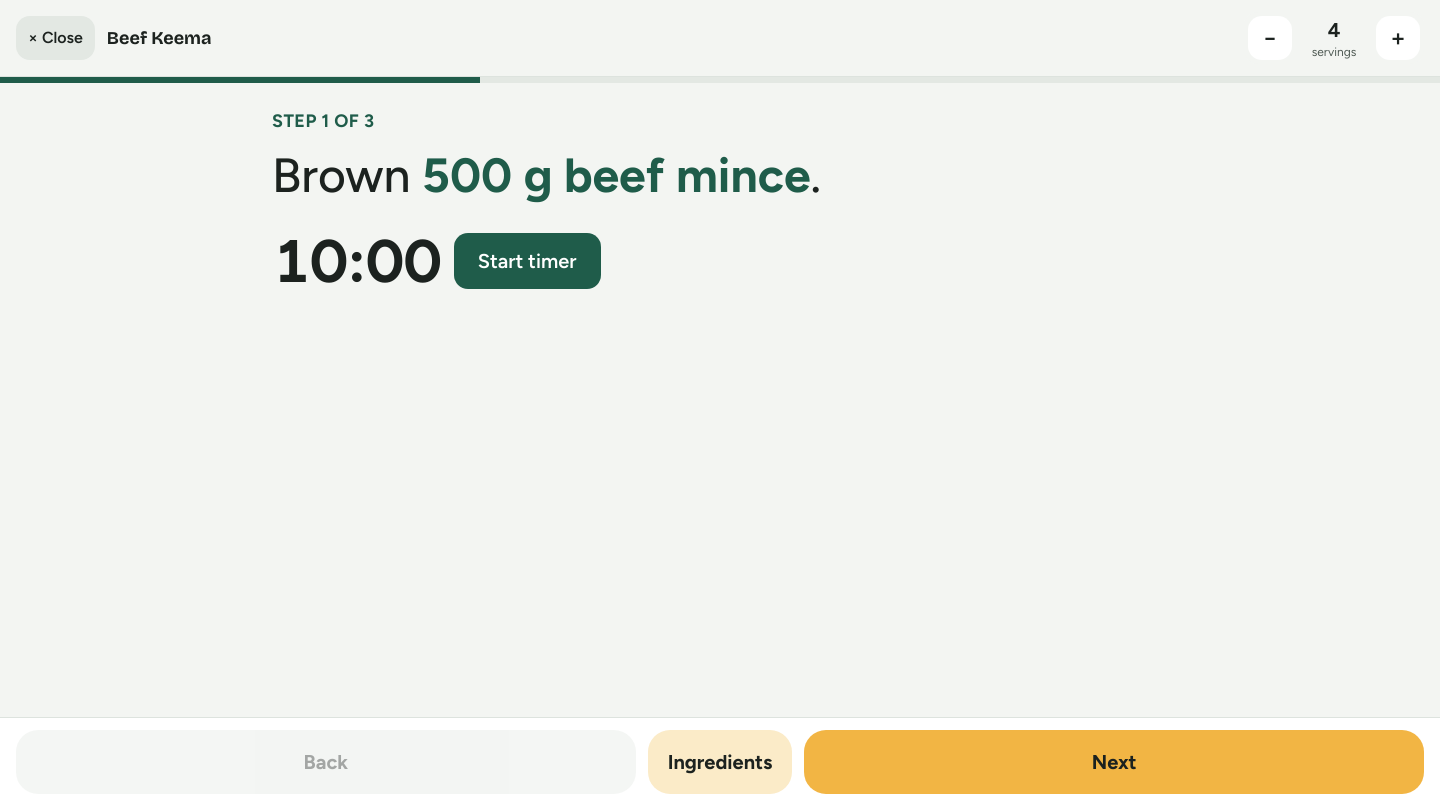
Test: CookScreen › should open the ingredients sheet with scaled amounts
The width and height of the screenshot is (1440, 810).
Step 1. Click the button named "More servings" → [1398, 38], box [1376,16,1420,60]
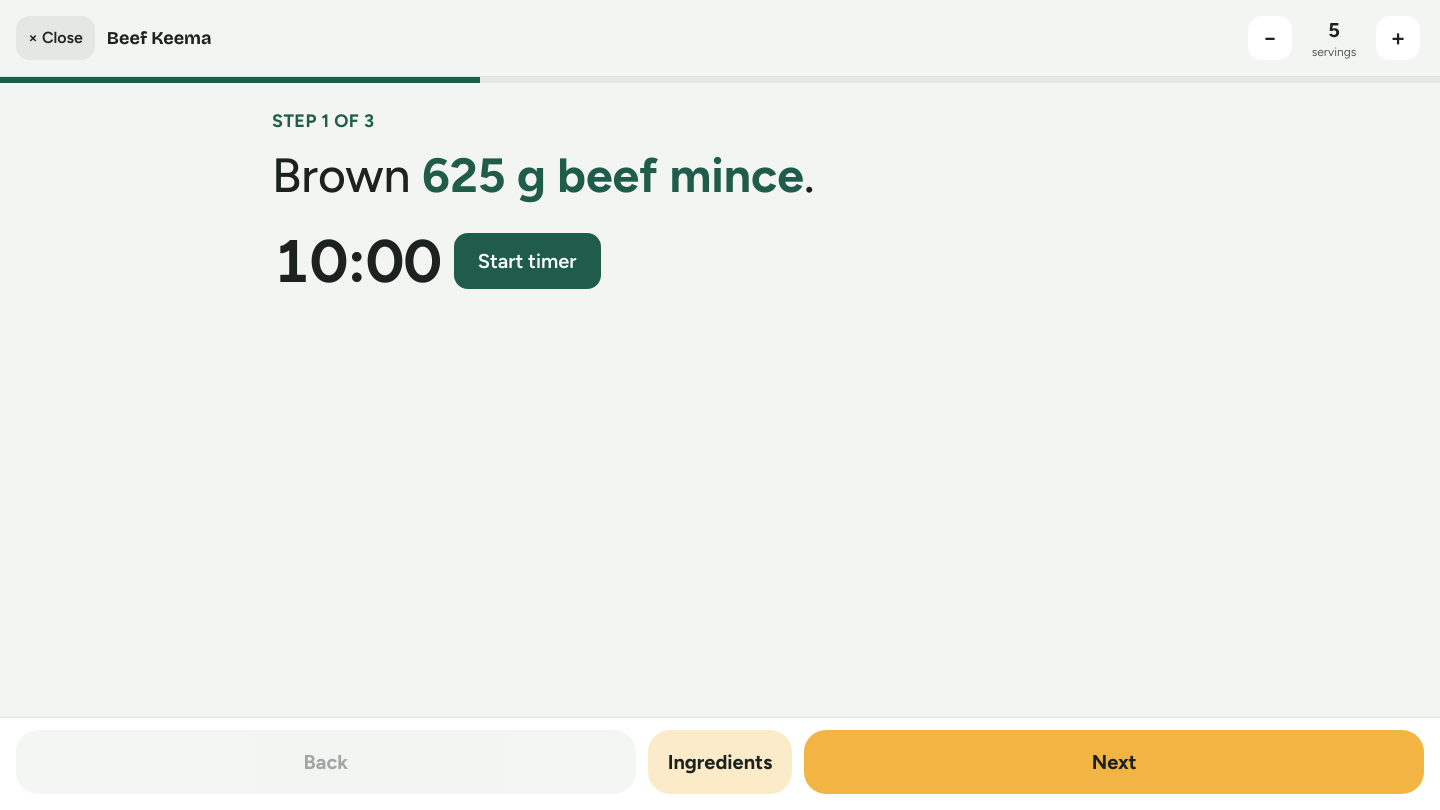
Step 2. Click the button "Ingredients" → [720, 762], box [648,730,792,794]
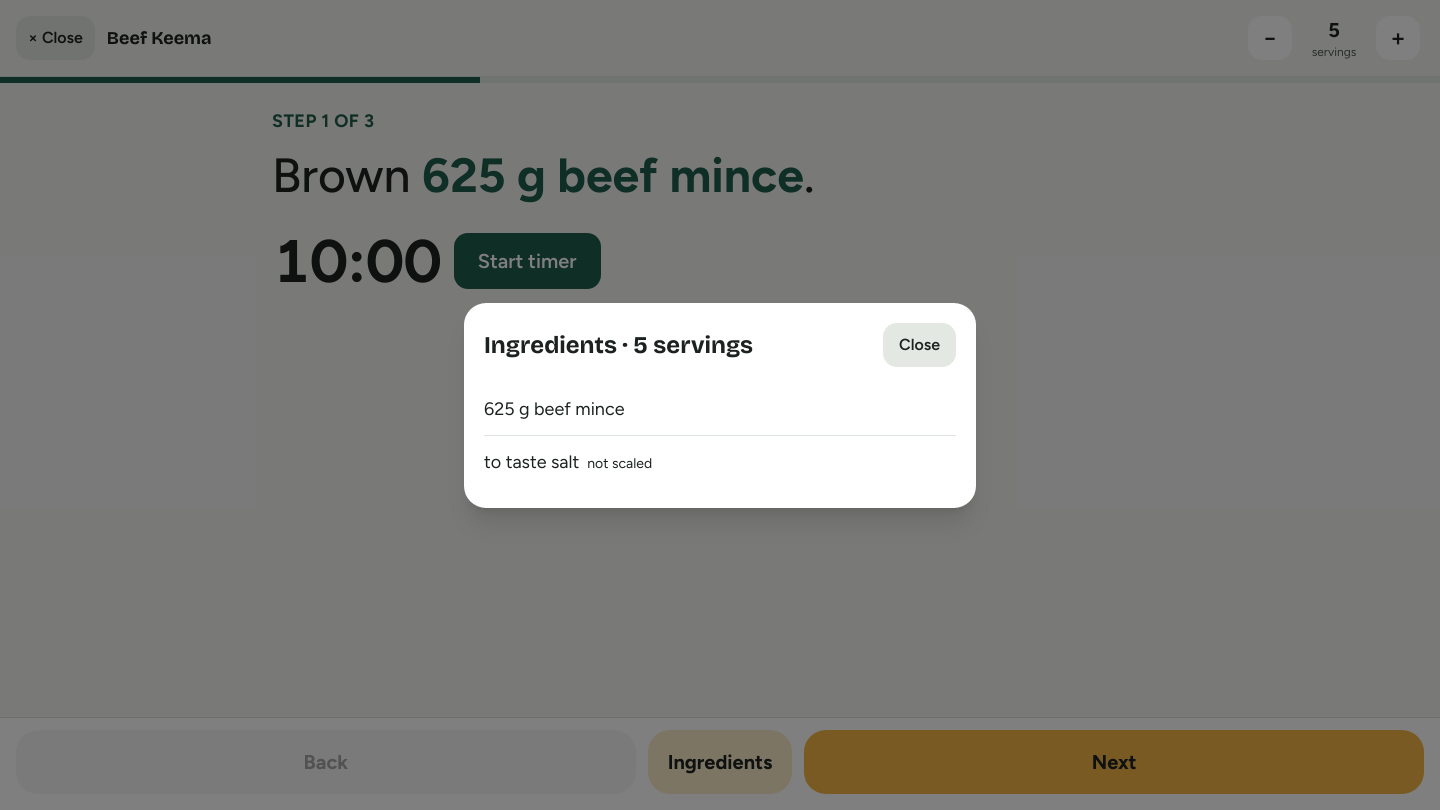
Now the text "625 g beef mince" is shown, box [484,394,624,422]
Now the text "not scaled" is shown, box [587,454,652,474]
